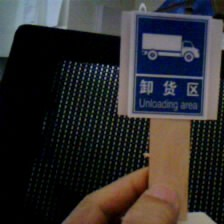unload: (125, 12, 209, 120)
